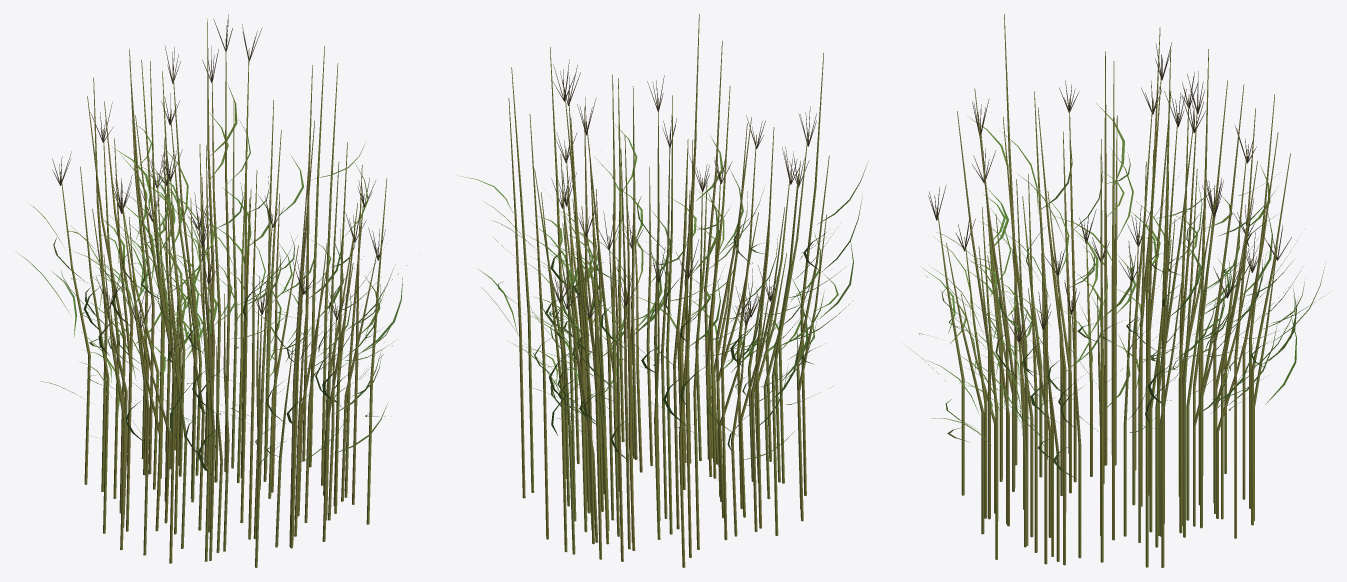
The model's file is PZ_Reeds_Thicket_B.glb.
3 views of the same model, side by side, from view 1: azimuth 30°, elevation 25°; view 2: azimuth 150°, elevation 25°; view 3: azimuth 270°, elevation 25° (orthographic). The views are drawn at different scales.
Parts seen in each view (by area): view 1: Reed_Stems_ClosedTapered, Reed_NarrowLeaves_LowOverdraw, Reed_Plumed_SeedTufts; view 2: Reed_Stems_ClosedTapered, Reed_NarrowLeaves_LowOverdraw, Reed_Plumed_SeedTufts; view 3: Reed_Stems_ClosedTapered, Reed_NarrowLeaves_LowOverdraw, Reed_Plumed_SeedTufts.
Part boxes in pixels (x1,y1,x2,y2): Reed_Stems_ClosedTapered: [60, 19, 387, 567]; Reed_NarrowLeaves_LowOverdraw: [16, 83, 407, 480]; Reed_Plumed_SeedTufts: [52, 14, 385, 327]; Reed_Stems_ClosedTapered: [508, 14, 829, 567]; Reed_NarrowLeaves_LowOverdraw: [458, 115, 867, 462]; Reed_Plumed_SeedTufts: [547, 59, 816, 325]; Reed_Stems_ClosedTapered: [936, 14, 1290, 567]; Reed_NarrowLeaves_LowOverdraw: [908, 103, 1324, 478]; Reed_Plumed_SeedTufts: [928, 42, 1291, 342].
Bounding box in the file's own units: 2.44 × 2.98 × 2.54.
3 materials, 3 textured.
